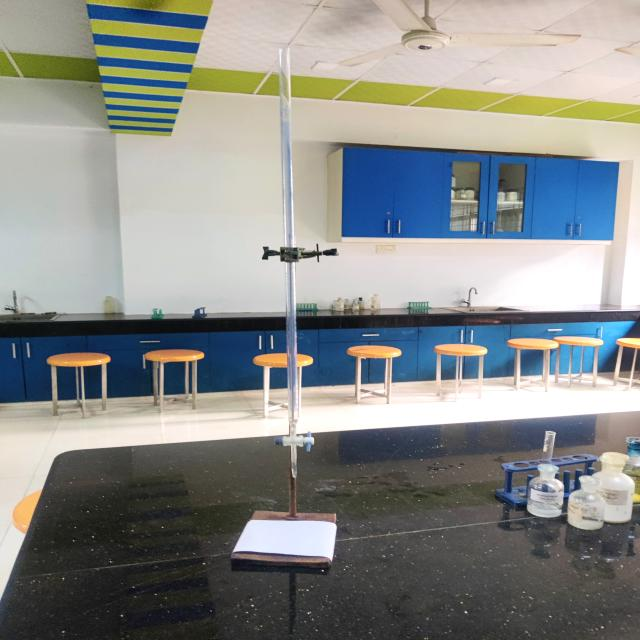Burette_Stands: (222, 231, 348, 580)
